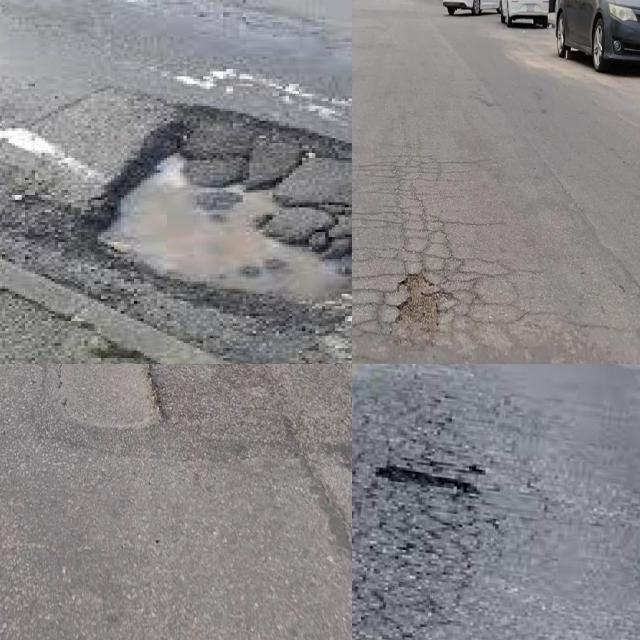Pothole: (98, 109, 352, 309), (103, 154, 347, 300), (364, 458, 488, 558), (57, 364, 169, 432), (391, 267, 455, 333), (376, 466, 479, 494)
